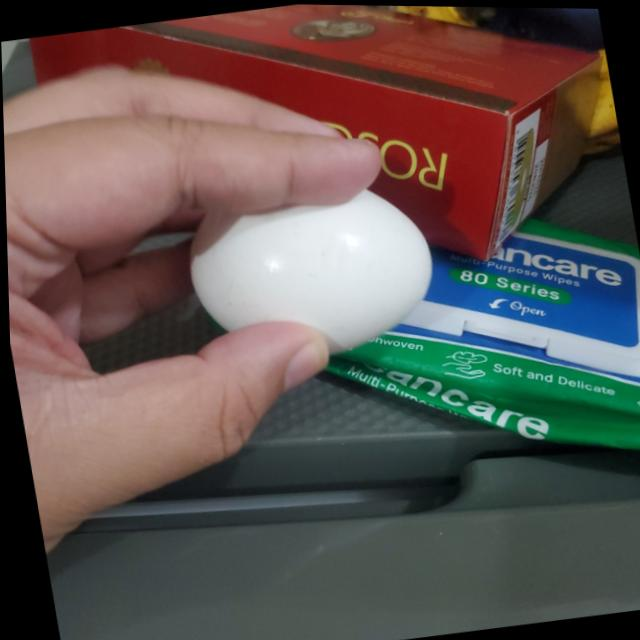egg: (174, 165, 444, 372)
